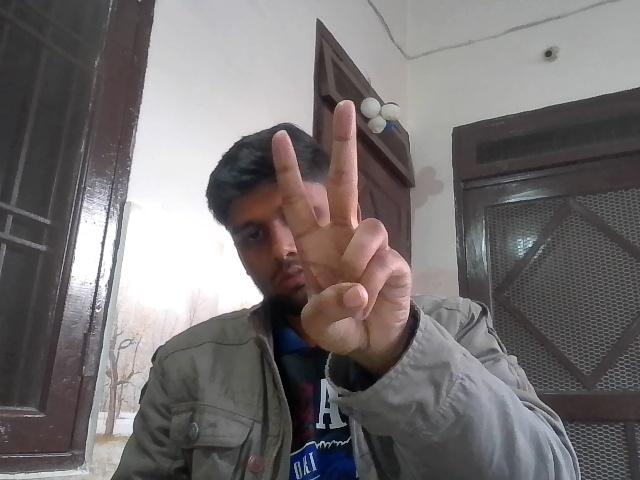Enjoy: (268, 92, 423, 375)
